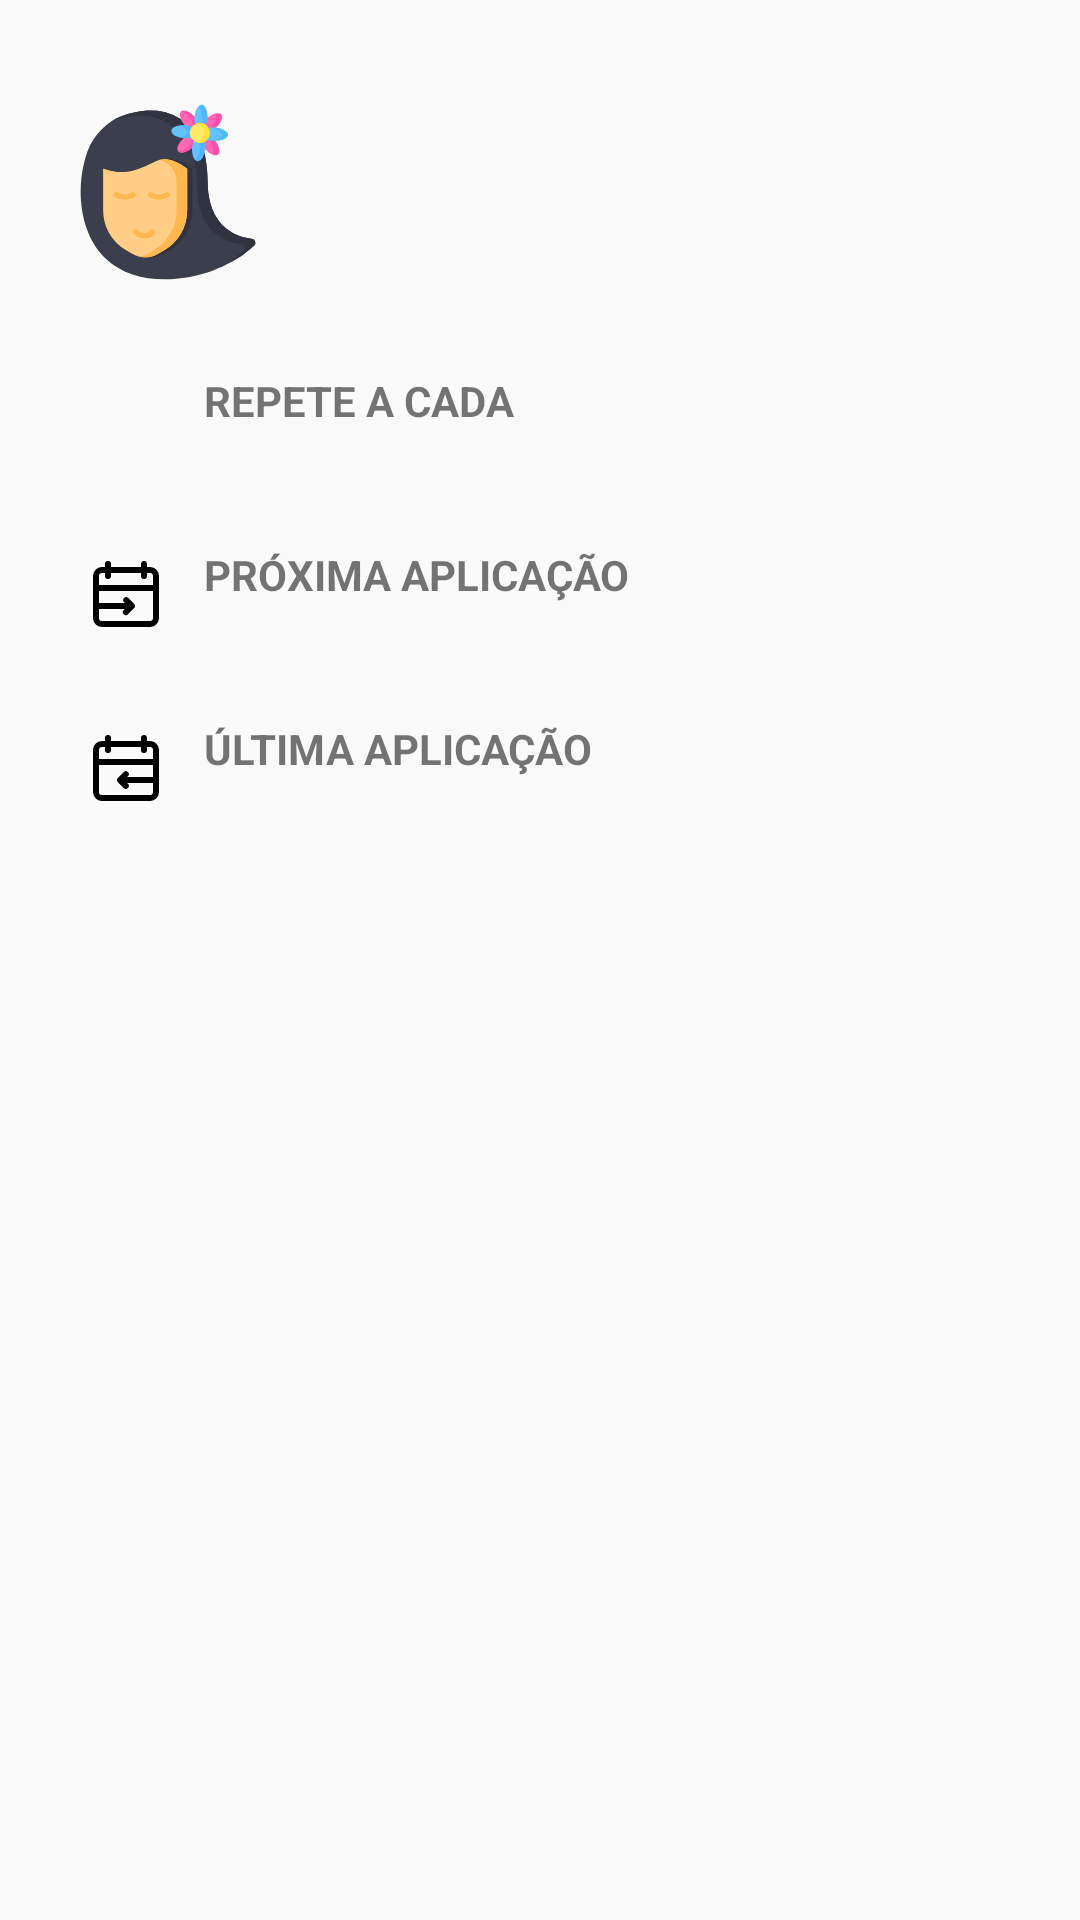

Where icons sit on this 1080*1920 app screen, as (x1,y1,x2,y2):
haircare: (80,104,256,280)
next date: (93,561,159,627)
previous date: (93,735,159,801)
